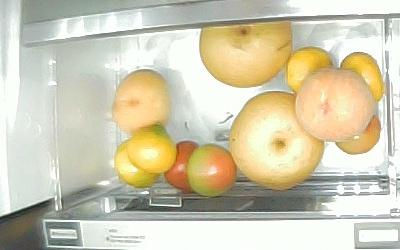peach: (295, 66, 373, 141), (112, 69, 170, 135)
pear: (228, 90, 325, 191), (198, 19, 292, 87)
tangerine: (127, 127, 176, 174), (285, 46, 333, 93), (340, 51, 384, 102), (114, 139, 159, 188)
tomato: (188, 143, 236, 196), (335, 115, 381, 155), (165, 140, 200, 191)
